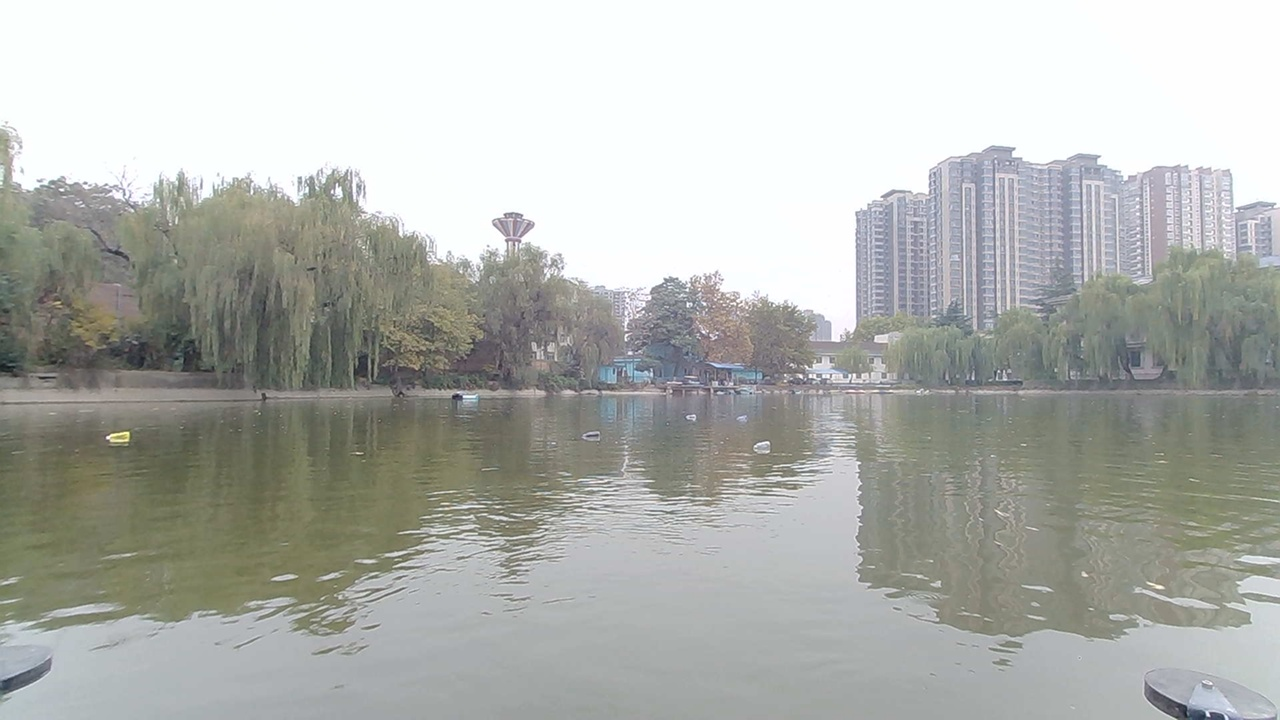bottle: (97, 420, 145, 452), (579, 424, 609, 446), (750, 435, 780, 456), (724, 410, 757, 427), (681, 405, 703, 424)
